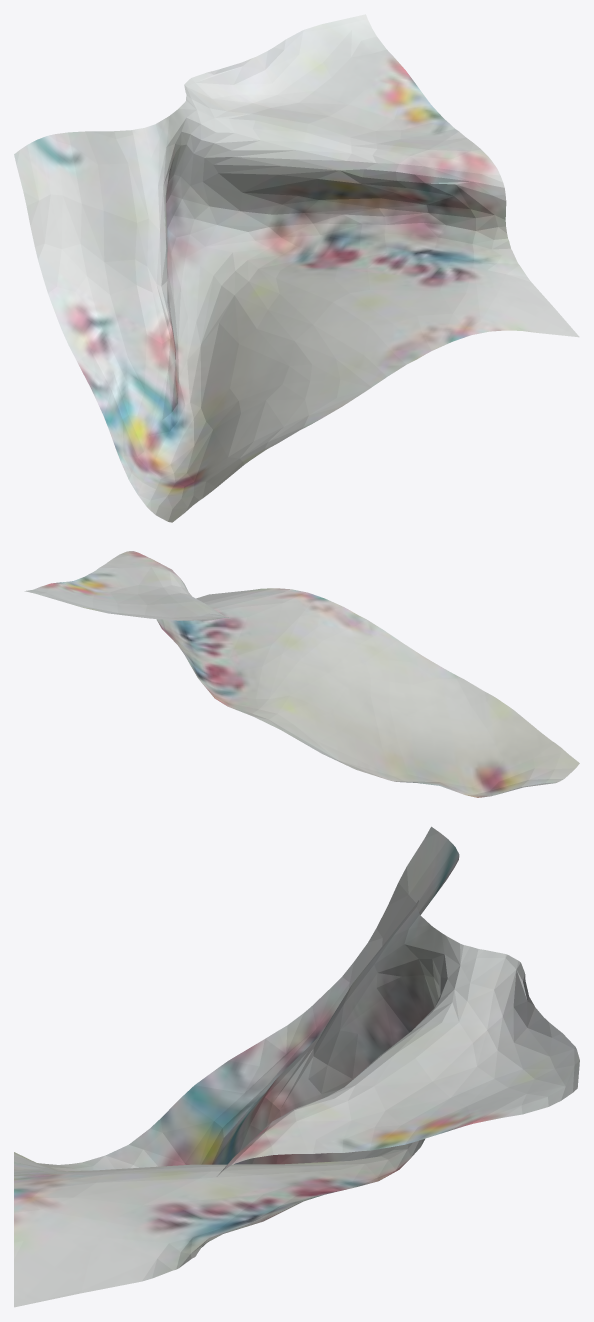
3 renders of one model, top to bottom at view 1: azimuth 30°, elevation 25°; view 2: azimuth 150°, elevation 25°; view 3: azimuth 270°, elevation 25°, orthographic. The views are drawn at different scales.
Bounding box in the file's own units: 85.74 × 52.29 × 78.32.
1 material, 1 textured.
